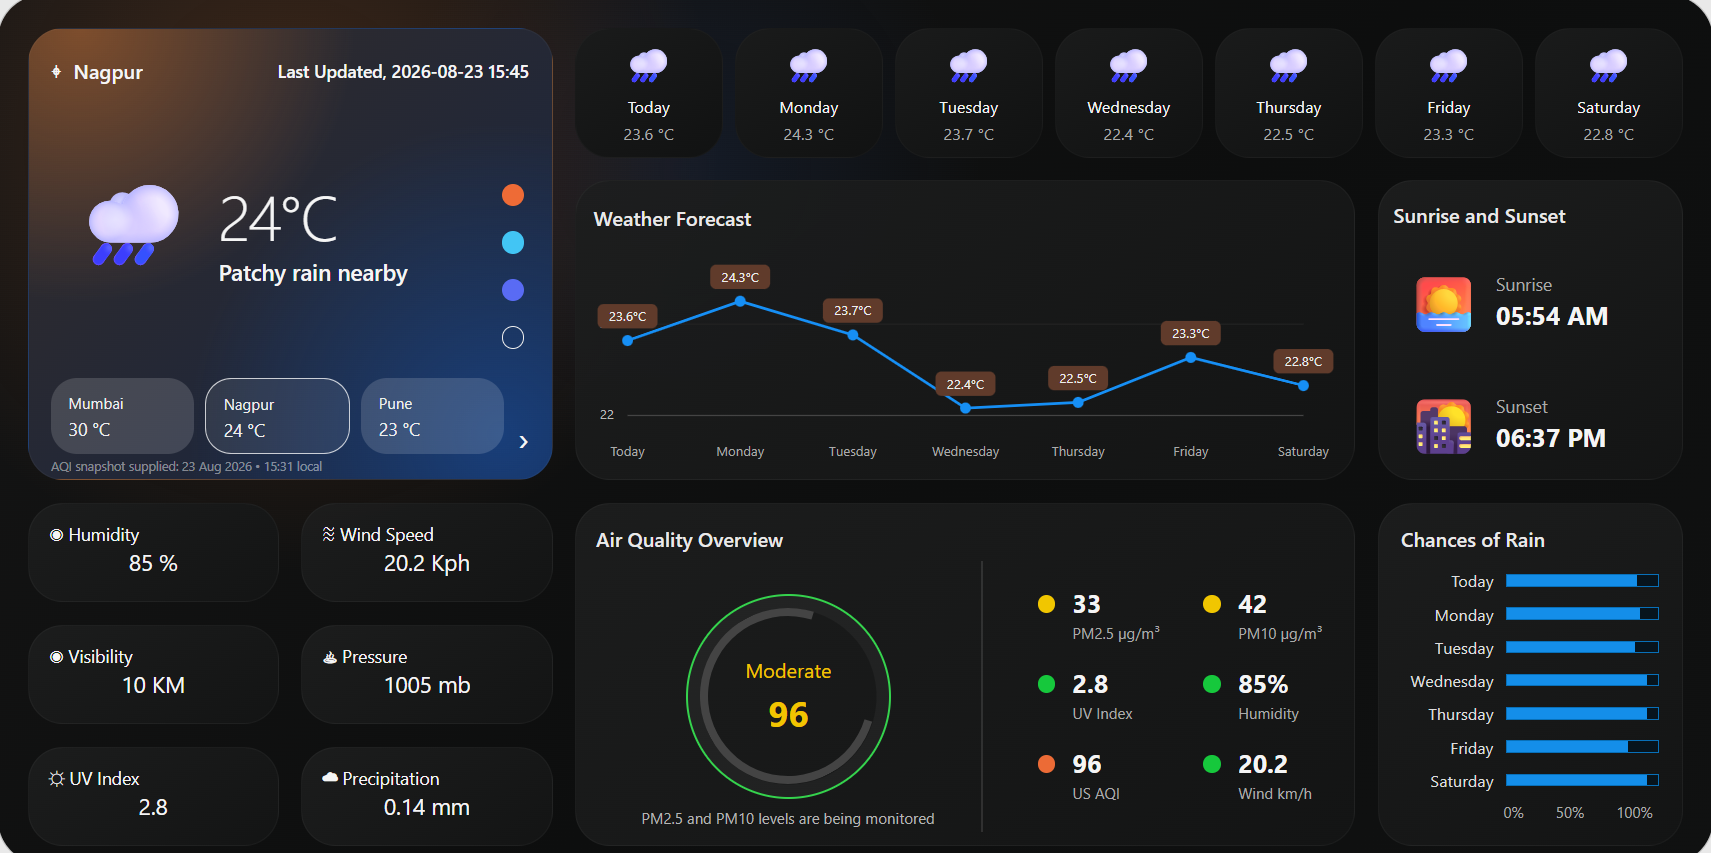

What the dashboard file says about the page in this screenshot:
{"tool":"powerbi","page":{"name":"Page 1","canvas":[1280,720],"ordinal":0},"visuals":[{"type":"donutChart","fields":{"Y":["Sum(current.current.air_quality.pm10)","current.leftvalue"]},"box":[445.2,413.3,240.5,236.7],"z":0},{"type":"shape","box":[462.2,426.5,208.5,204.8],"z":1000},{"type":"advancedSlicerVisual","fields":{"Values":["location.location.name"]},"box":[25.4,276.8,380.2,84.3],"z":2000},{"type":"shape","box":[36.6,157.5,149.5,66.8],"z":3000},{"type":"shape","box":[36.6,224.3,162.2,38.2],"z":4000},{"type":"shape","box":[198.4,45.4,200.3,39.7],"z":5000},{"type":"shape","box":[64.3,45.4,111.5,39.7],"z":6000},{"type":"image","box":[35.9,51,28.3,34],"z":7000},{"type":"cardVisual","fields":{"Data":["Min(current.current.condition.icon)"]},"box":[36.6,98.6,55.7,58.9],"z":8000},{"type":"image","box":[33.4,386.5,30.2,31.8],"z":9000},{"type":"shape","box":[63.6,386.5,122.5,31.8],"z":10000},{"type":"image","box":[227.5,380.2,54.1,42.9],"z":11000},{"type":"image","box":[31.8,485.1,31.8,46.1],"z":12000},{"type":"image","box":[227.5,493.1,47.7,30.2],"z":13000},{"type":"image","box":[232.2,601.3,42.9,44.5],"z":14000},{"type":"image","box":[25.4,601.3,49.3,44.5],"z":15000},{"type":"shape","box":[281.5,386.5,98.6,31.8],"z":16000},{"type":"shape","box":[74.8,491.5,122.5,31.8],"z":17000},{"type":"shape","box":[275.2,485.1,122.5,31.8],"z":18000},{"type":"shape","box":[281.5,601.3,122.5,31.8],"z":19000},{"type":"shape","box":[76.3,607.6,122.5,31.8],"z":20000},{"type":"cardVisual","fields":{"Data":["Sum(current.current.humidity)"]},"box":[81.1,418.3,74.8,44.5],"z":21000},{"type":"cardVisual","fields":{"Data":["_measures.wind_speeds"]},"box":[265.6,408.8,155.9,54.1],"z":22000},{"type":"cardVisual","fields":{"Data":["Sum(current.current.humidity)"]},"box":[81.1,531.3,74.8,44.5],"z":23000},{"type":"cardVisual","fields":{"Data":["Sum(current.current.pressure_in)"]},"box":[281.5,516.9,119.3,44.5],"z":24000},{"type":"cardVisual","fields":{"Data":["Sum(current.current.pressure_in)"]},"box":[275.2,633.1,119.3,44.5],"z":25000},{"type":"cardVisual","fields":{"Data":["Sum(current.current.uv)"]},"box":[81.1,633.1,74.8,44.5],"z":26000},{"type":"advancedSlicerVisual","fields":{"Values":["forecast-day.day_name"]},"box":[439.6,16.9,839.8,103.3],"z":27000},{"type":"lineChart","title":"Chance_of_Rain","fields":{"Y":["Avg(forcast-hours.forecast.forecastday.hour.temp_f)"],"Category":["location.location.name","forcast-hours.forecast.forecastday.hour.chance_of_rain"]},"box":[460.3,148.4,535.4,189.7],"z":28000},{"type":"map","fields":{"Size":["Sum(forcast-hours.forecast.forecastday.hour.cloud)"],"Category":["location.location.name"]},"box":[1035.2,385.1,208.5,293.1],"z":29000},{"type":"cardVisual","fields":{"Data":["Sum(current.current.air_quality.o3)"]},"box":[860.4,396.4,135.3,71.4],"z":30000},{"type":"shape","box":[460.3,390.8,154.1,31.9],"z":31000},{"type":"cardVisual","fields":{"Data":["Sum(current.current.air_quality.no2)"]},"box":[864.2,486.6,135.3,75.1],"z":32000},{"type":"cardVisual","fields":{"Data":["Sum(current.current.air_quality.pm2_5)"]},"box":[860.4,586.1,135.3,77],"z":33000},{"type":"cardVisual","fields":{"Data":["Sum(current.current.air_quality.pm10)"]},"box":[728.9,398.3,135.3,69.5],"z":34000},{"type":"cardVisual","fields":{"Data":["Sum(current.current.air_quality.so2)"]},"box":[725.2,496,135.3,73.3],"z":35000},{"type":"cardVisual","fields":{"Data":["Sum(current.current.air_quality.co)"]},"box":[738.3,601.2,135.3,77],"z":36000},{"type":"shape","box":[745.8,418.9,15,15],"z":37000},{"type":"shape","box":[745.8,514.8,15,15],"z":38000},{"type":"shape","box":[886.7,420.8,15,15],"z":39000},{"type":"shape","box":[886.7,509.1,15,15],"z":40000},{"type":"shape","box":[879.2,616.2,15,15],"z":41000},{"type":"shape","box":[753.4,618.1,15,15],"z":42000},{"type":"shape","box":[625.6,411.4,199.1,242.4],"z":43000},{"type":"cardVisual","fields":{"Data":["Sum(current.current.air_quality.pm10)"]},"box":[516.6,494.1,109,75.1],"z":44000},{"type":"cardVisual","fields":{"Data":["current.wind_speed","Min(current.location.name)","Min(current.location.region)"]},"box":[1035.2,131.5,221.7,229.2],"z":45000}]}

Visuals, with their boxes on the page's 1280x720 design canvas (x1, y1, x2, y2). These are canvas units, not pixel positions in the 1711x853 screenshot, which may show the page scaled, cropped or inside an application window:
donutChart - Sum(current.current.air_quality.pm10) x current.leftvalue: <bbox>445, 413, 686, 650</bbox>
shape: <bbox>462, 426, 671, 631</bbox>
advancedSlicerVisual - location.location.name: <bbox>25, 277, 406, 361</bbox>
shape: <bbox>37, 158, 186, 224</bbox>
shape: <bbox>37, 224, 199, 262</bbox>
shape: <bbox>198, 45, 399, 85</bbox>
shape: <bbox>64, 45, 176, 85</bbox>
image: <bbox>36, 51, 64, 85</bbox>
cardVisual - Min(current.current.condition.icon): <bbox>37, 99, 92, 158</bbox>
image: <bbox>33, 386, 64, 418</bbox>
shape: <bbox>64, 386, 186, 418</bbox>
image: <bbox>228, 380, 282, 423</bbox>
image: <bbox>32, 485, 64, 531</bbox>
image: <bbox>228, 493, 275, 523</bbox>
image: <bbox>232, 601, 275, 646</bbox>
image: <bbox>25, 601, 75, 646</bbox>
shape: <bbox>282, 386, 380, 418</bbox>
shape: <bbox>75, 492, 197, 523</bbox>
shape: <bbox>275, 485, 398, 517</bbox>
shape: <bbox>282, 601, 404, 633</bbox>
shape: <bbox>76, 608, 199, 639</bbox>
cardVisual - Sum(current.current.humidity): <bbox>81, 418, 156, 463</bbox>
cardVisual - _measures.wind_speeds: <bbox>266, 409, 422, 463</bbox>
cardVisual - Sum(current.current.humidity): <bbox>81, 531, 156, 576</bbox>
cardVisual - Sum(current.current.pressure_in): <bbox>282, 517, 401, 561</bbox>
cardVisual - Sum(current.current.pressure_in): <bbox>275, 633, 394, 678</bbox>
cardVisual - Sum(current.current.uv): <bbox>81, 633, 156, 678</bbox>
advancedSlicerVisual - forecast-day.day_name: <bbox>440, 17, 1279, 120</bbox>
"Chance_of_Rain" lineChart: <bbox>460, 148, 996, 338</bbox>
map - Sum(forcast-hours.forecast.forecastday.hour.cloud) x location.location.name: <bbox>1035, 385, 1244, 678</bbox>
cardVisual - Sum(current.current.air_quality.o3): <bbox>860, 396, 996, 468</bbox>
shape: <bbox>460, 391, 614, 423</bbox>
cardVisual - Sum(current.current.air_quality.no2): <bbox>864, 487, 1000, 562</bbox>
cardVisual - Sum(current.current.air_quality.pm2_5): <bbox>860, 586, 996, 663</bbox>
cardVisual - Sum(current.current.air_quality.pm10): <bbox>729, 398, 864, 468</bbox>
cardVisual - Sum(current.current.air_quality.so2): <bbox>725, 496, 860, 569</bbox>
cardVisual - Sum(current.current.air_quality.co): <bbox>738, 601, 874, 678</bbox>
shape: <bbox>746, 419, 761, 434</bbox>
shape: <bbox>746, 515, 761, 530</bbox>
shape: <bbox>887, 421, 902, 436</bbox>
shape: <bbox>887, 509, 902, 524</bbox>
shape: <bbox>879, 616, 894, 631</bbox>
shape: <bbox>753, 618, 768, 633</bbox>
shape: <bbox>626, 411, 825, 654</bbox>
cardVisual - Sum(current.current.air_quality.pm10): <bbox>517, 494, 626, 569</bbox>
cardVisual - current.wind_speed x Min(current.location.name): <bbox>1035, 132, 1257, 361</bbox>
